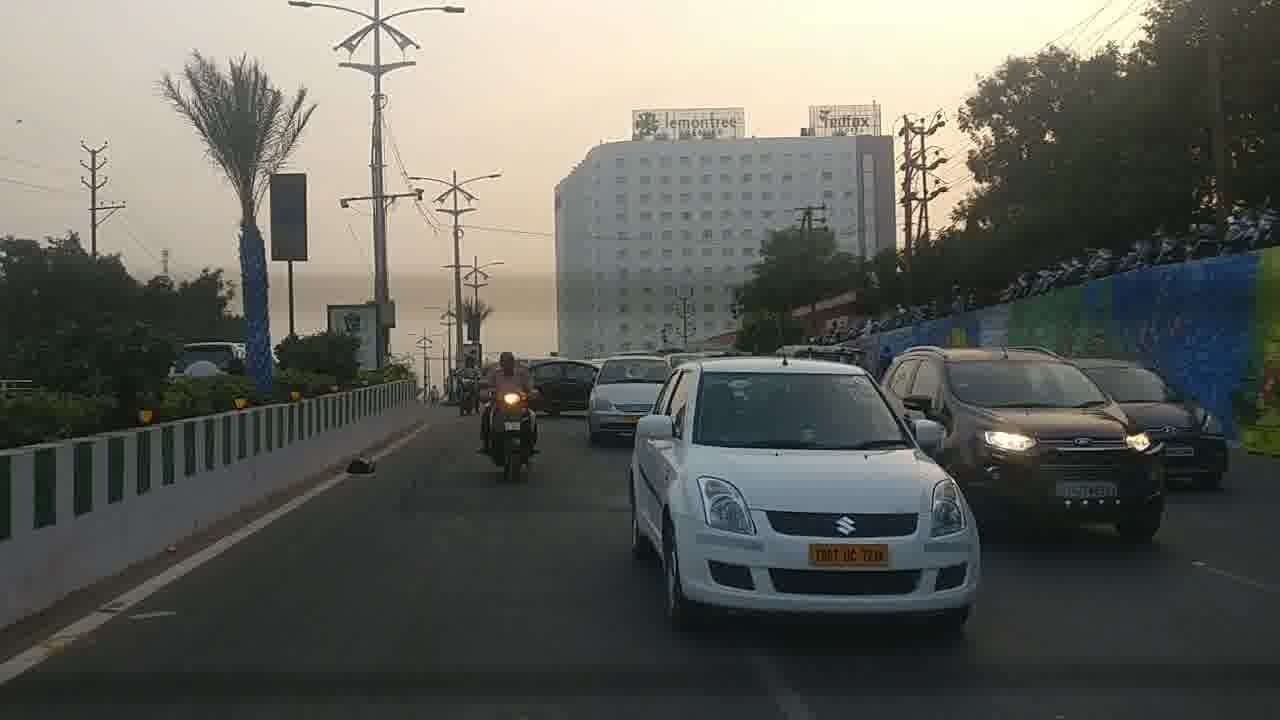swift desire: (631, 364, 978, 610)
